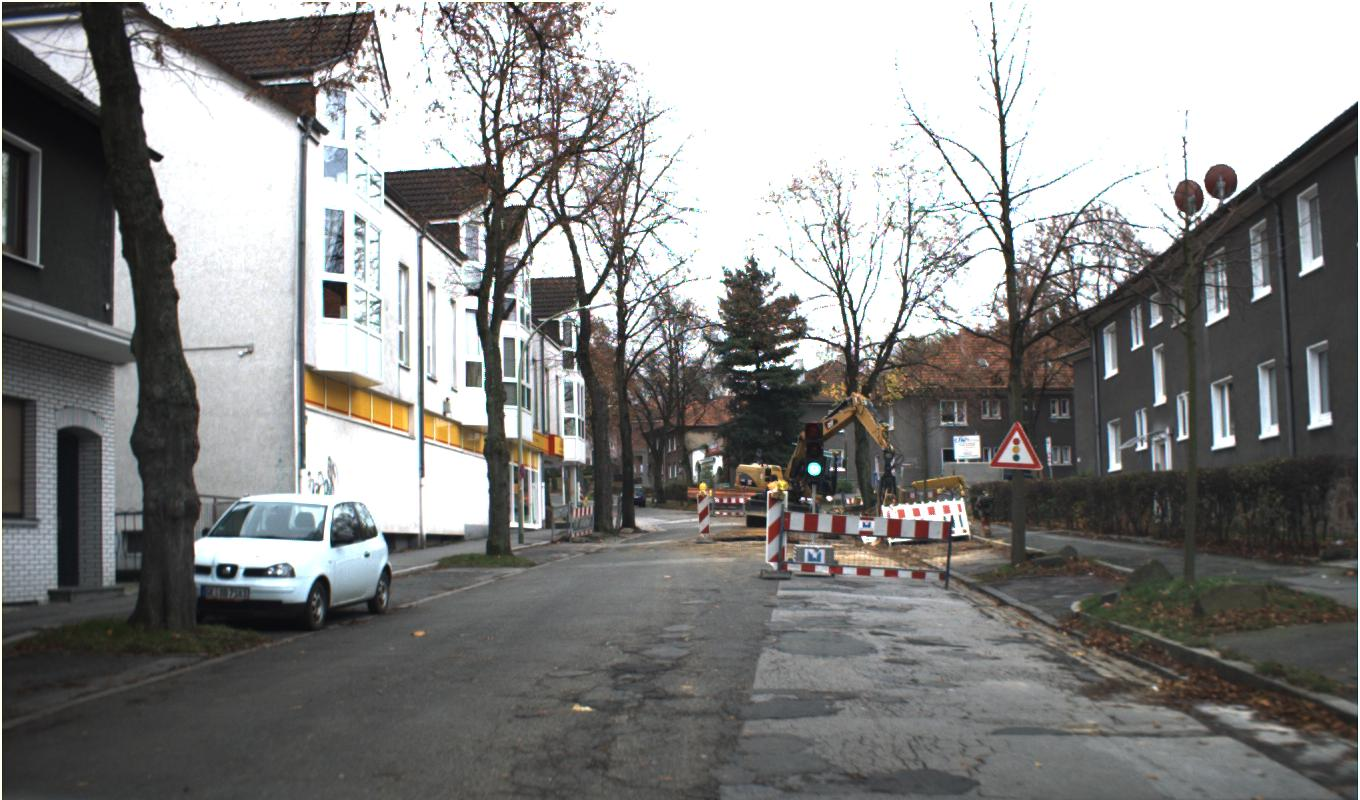danger: (988, 420, 1042, 470)
